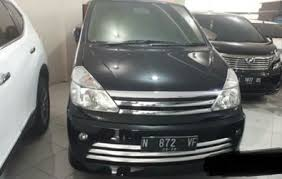plate: (141, 136, 196, 152)
